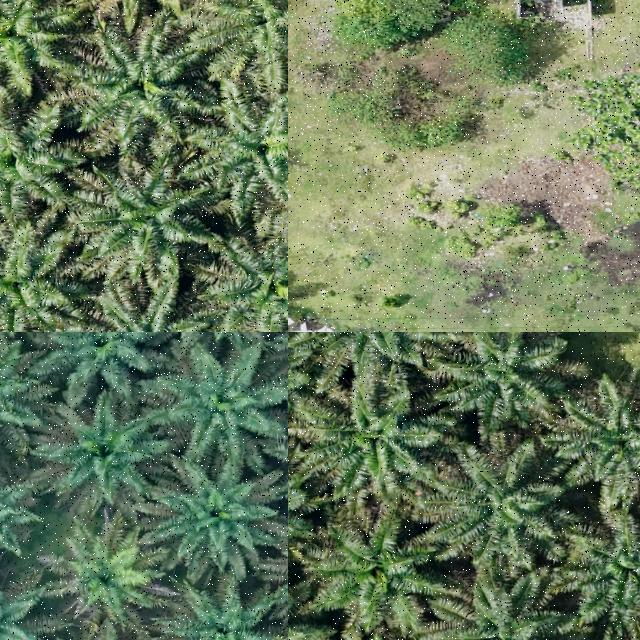Ganoderma: (59, 539, 148, 613)
